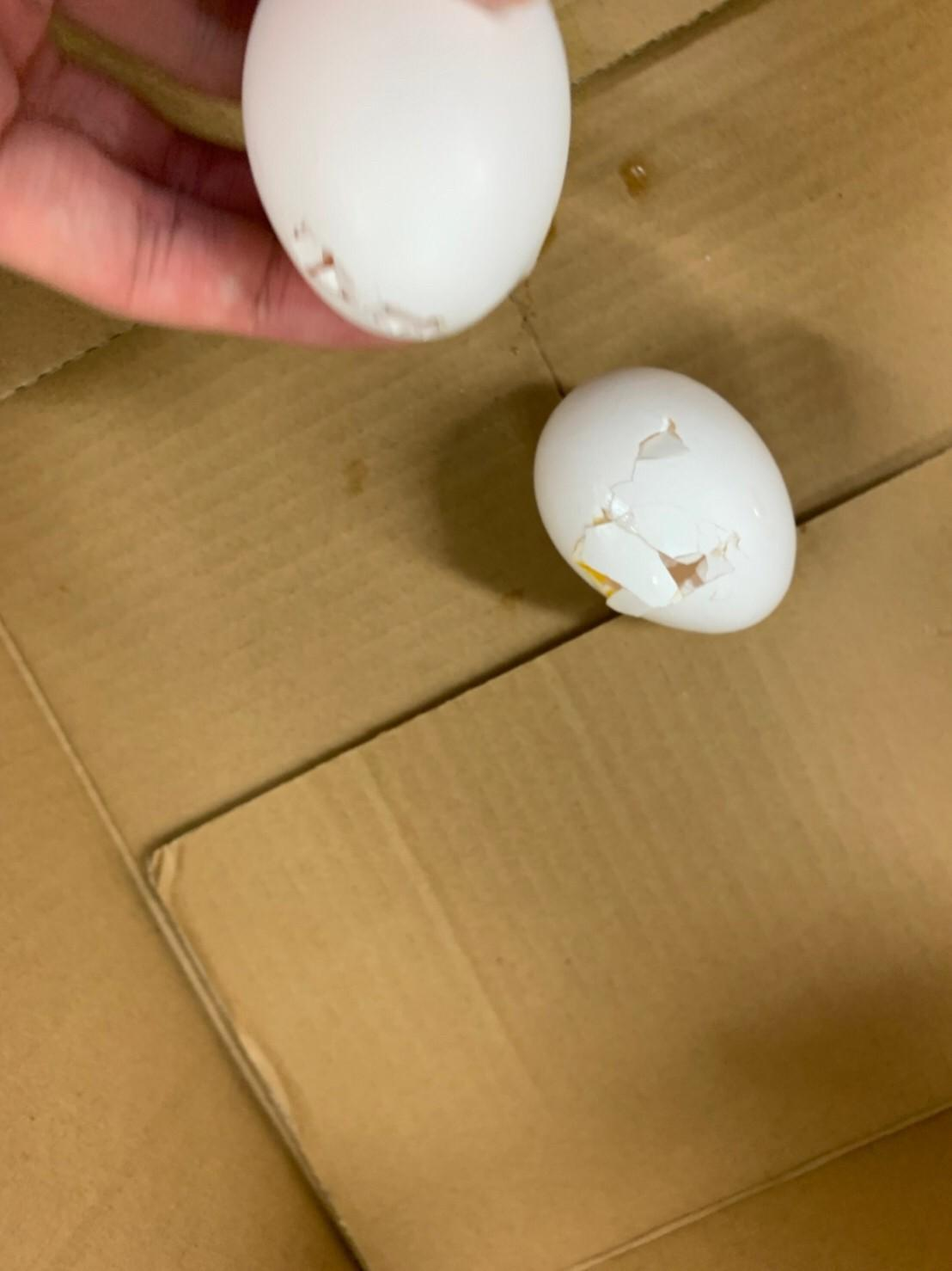egg: (236, 0, 580, 355), (528, 371, 803, 642)
